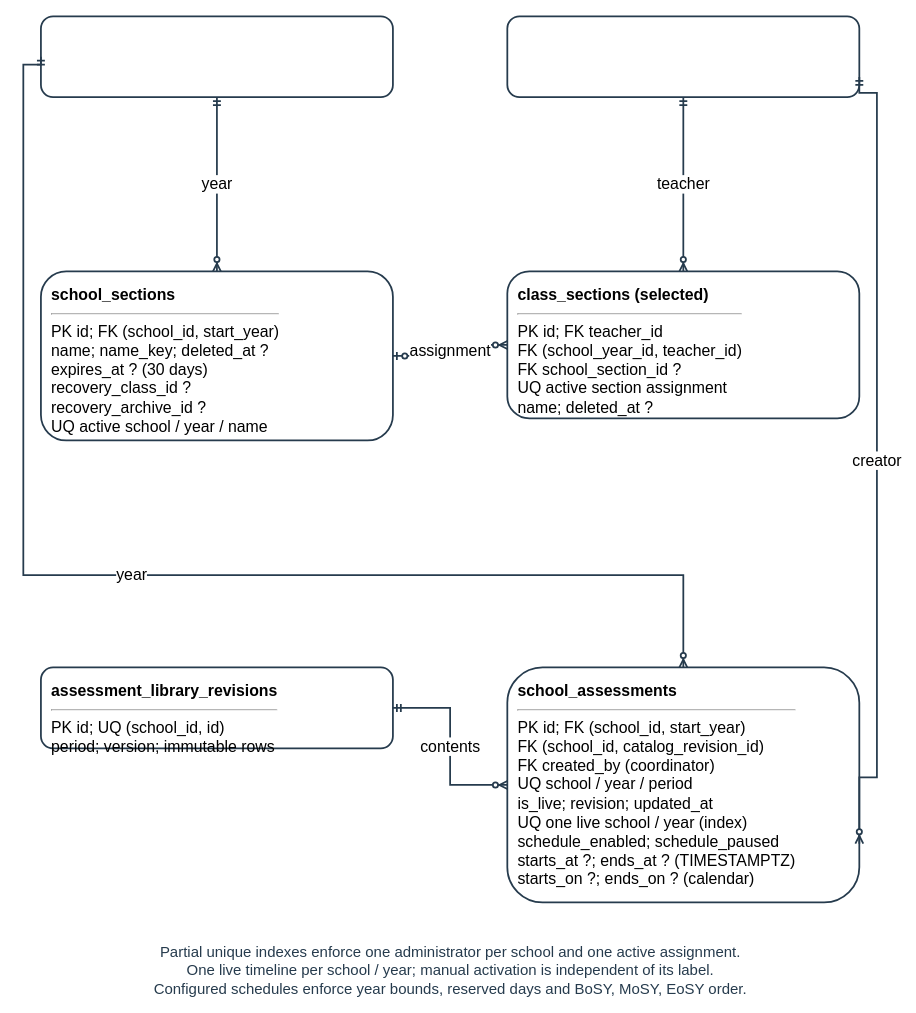
This 916x1013 diagram has some shape labels left out. Here are the shapes that lost their labels. From the top down, the centre of each, then its label:
At (x=216, y=56): "global_school_years PK school_id, start_year label; deleted_at ?".
At (x=683, y=56): "users (selected) PK id; FK school_id role; UQ one admin per school".
